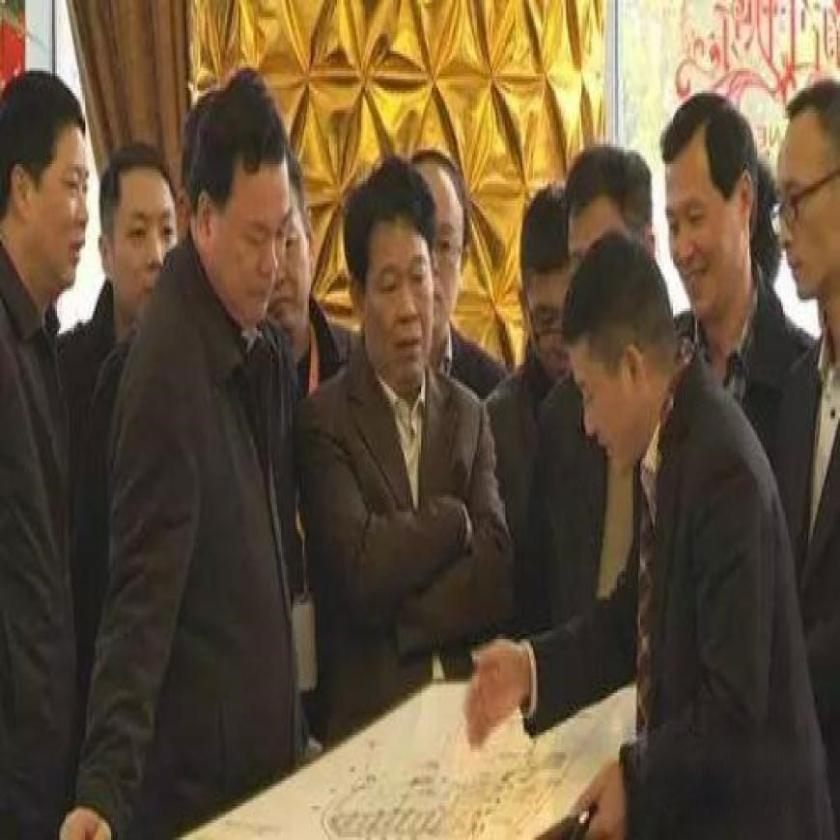Sin_casco: (565, 236, 700, 474), (186, 48, 287, 360), (657, 85, 762, 346), (342, 147, 440, 393), (0, 60, 94, 290), (771, 71, 840, 342), (98, 137, 181, 343)
